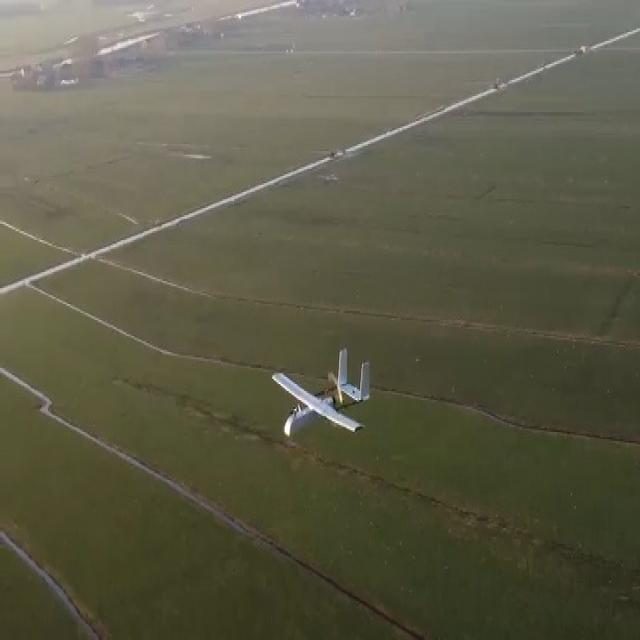iha: (302, 362, 343, 416)
